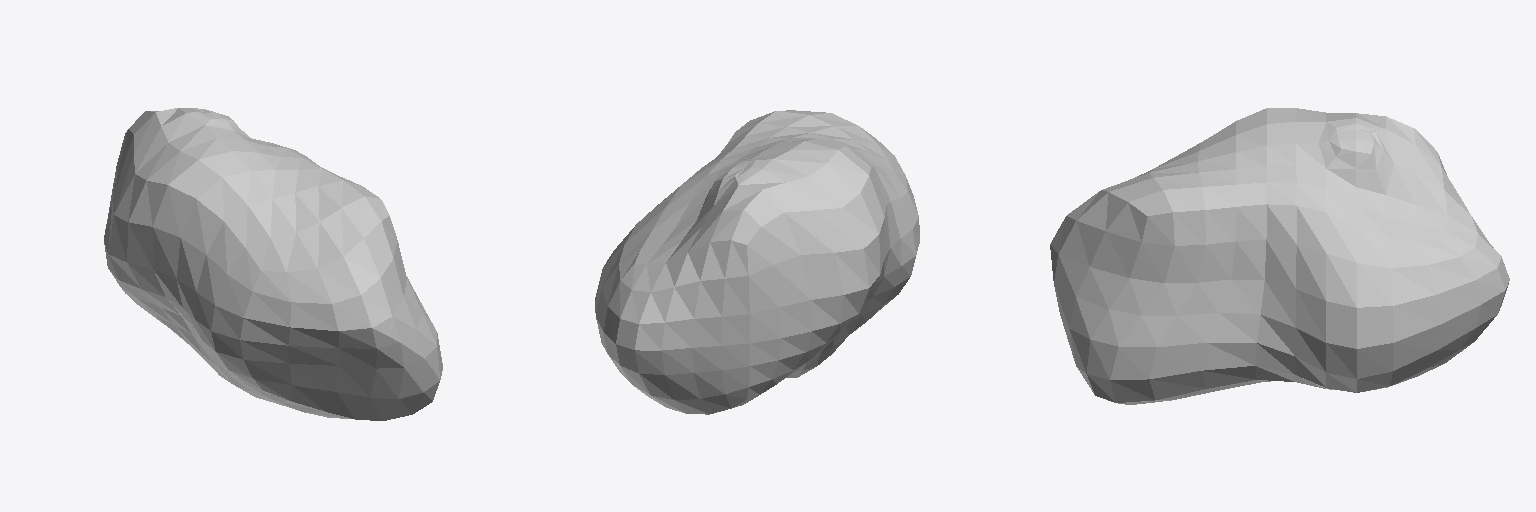
Rendered from cloud2.obj.
The picture shows the model from 3 angles: view 1: azimuth 30°, elevation 25°; view 2: azimuth 150°, elevation 25°; view 3: azimuth 270°, elevation 25°; orthographic projection.
Visible parts, largest first — view 1: Cloud.003_Cube.016; view 2: Cloud.003_Cube.016; view 3: Cloud.003_Cube.016.
Part boxes in pixels (left/top/right/bottom): Cloud.003_Cube.016: left=104, top=108, right=442, bottom=420; Cloud.003_Cube.016: left=595, top=110, right=919, bottom=414; Cloud.003_Cube.016: left=1050, top=108, right=1509, bottom=404.
Bounding box in the file's own units: 4.01 × 3.76 × 6.41.